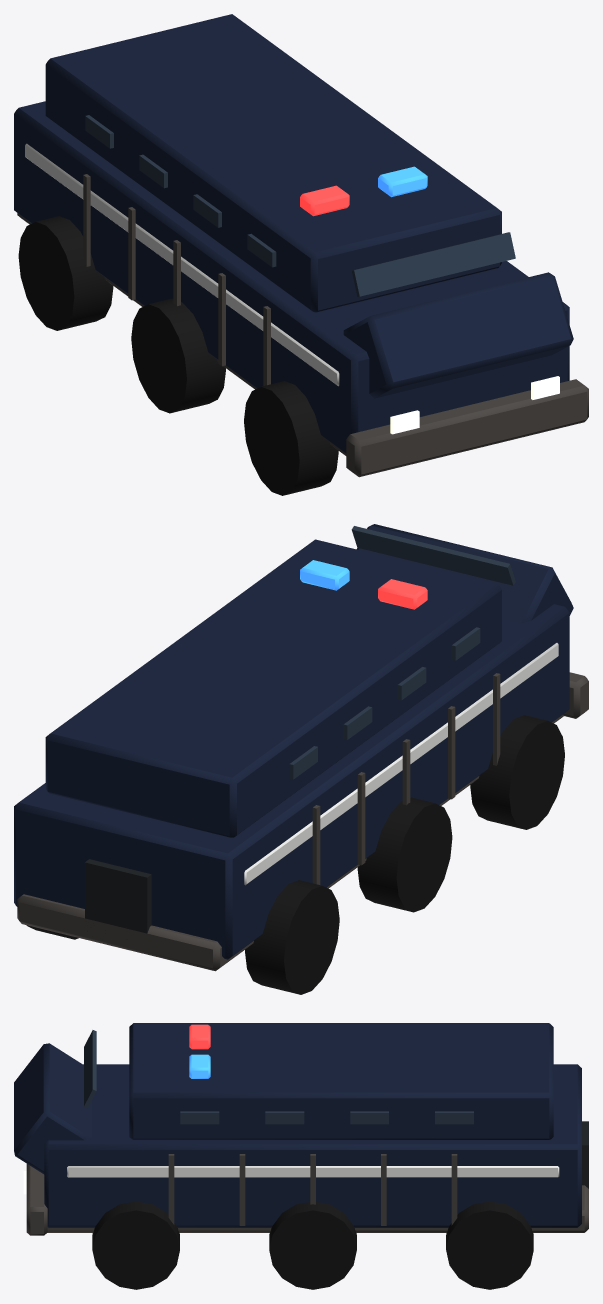
File: tanqueta.fbx
3 views of the same model, one above another, from view 1: azimuth 30°, elevation 25°; view 2: azimuth 150°, elevation 25°; view 3: azimuth 270°, elevation 25° (orthographic). The views are drawn at different scales.
Parts seen in each view (by area): view 1: tanqueta; view 2: tanqueta; view 3: tanqueta.
Boxes of the visible parts, x1,y1,x2,y2 form: tanqueta: (14, 14, 588, 495); tanqueta: (14, 524, 588, 994); tanqueta: (14, 1023, 588, 1289).
Bounding box in the file's own units: 3.4 × 3.01 × 8.13.
